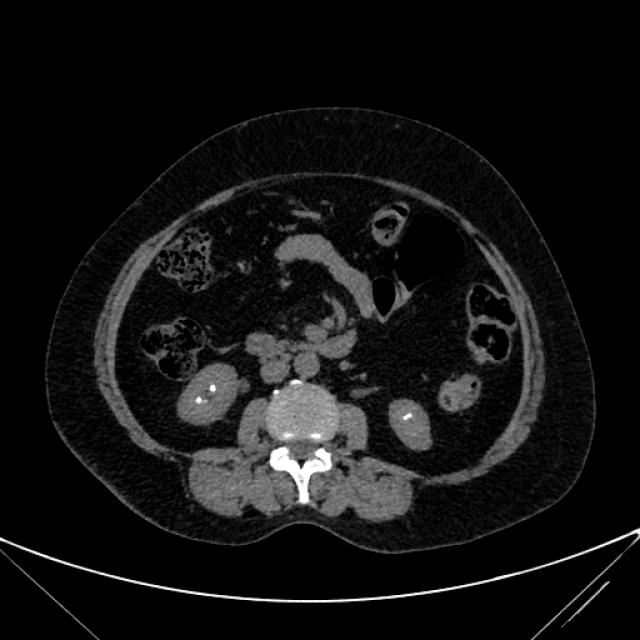kidney: (184, 368, 231, 424), (391, 401, 429, 447)
stone: (403, 414, 411, 420), (210, 386, 216, 391), (196, 398, 202, 402)
